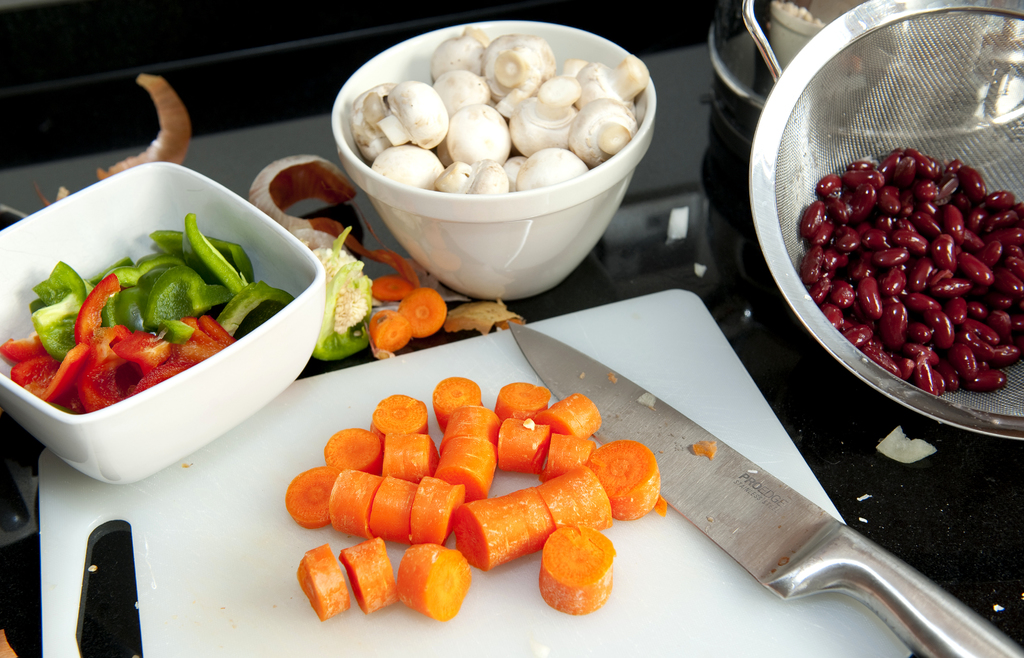Carrot: (288, 373, 662, 615), (369, 394, 433, 433)
